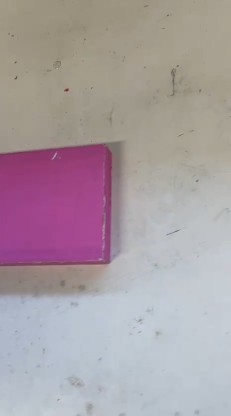pink: (0, 159, 125, 259)
